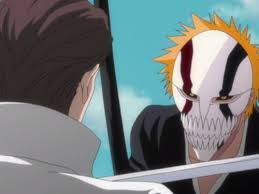Ichigo: (173, 22, 252, 158)
